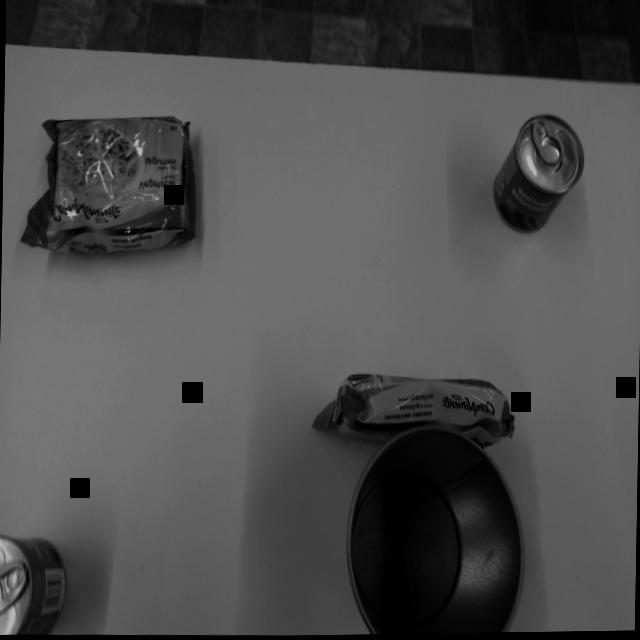noodles: (17, 107, 202, 259), (311, 368, 519, 449)
sausages: (488, 109, 587, 242)
